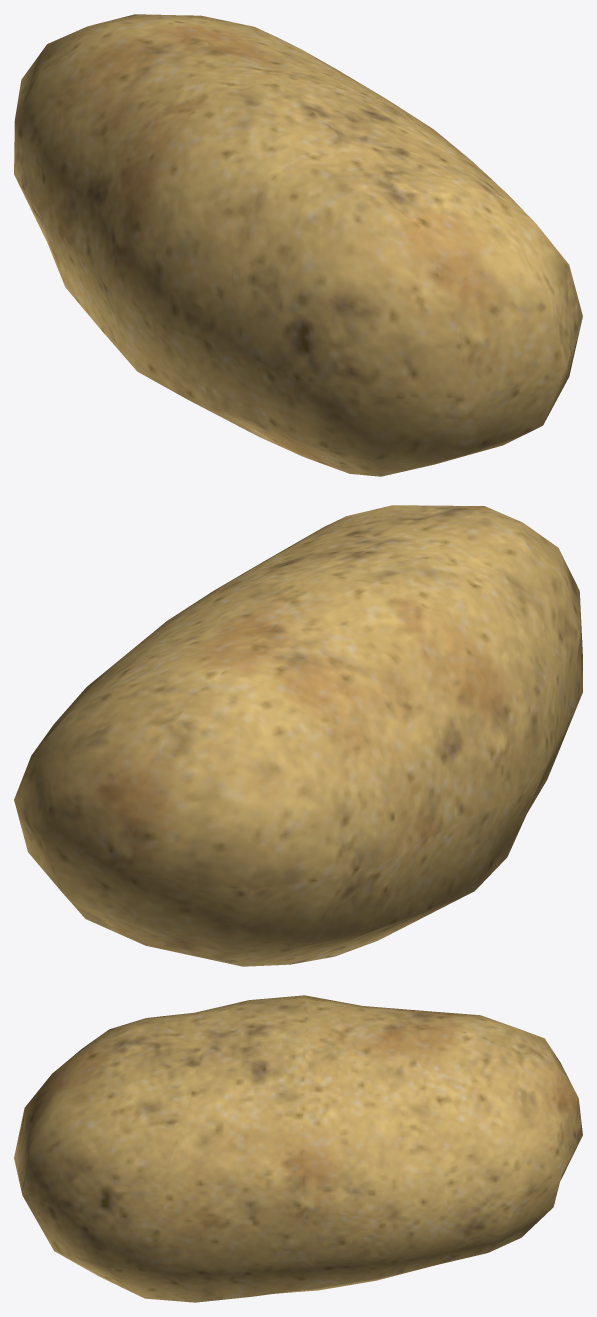
File: Potato_18.obj
3 renders of one model, top to bottom at view 1: azimuth 30°, elevation 25°; view 2: azimuth 150°, elevation 25°; view 3: azimuth 270°, elevation 25°, orthographic. The views are drawn at different scales.
Visible parts, largest first — view 1: potato_b8; view 2: potato_b8; view 3: potato_b8.
Boxes of the visible parts, x1,y1,x2,y2 form: potato_b8: (14,14,582,476); potato_b8: (14,505,582,966); potato_b8: (14,995,582,1302).
Size of the model in its own units: 0.0775 by 0.0691 by 0.1374.
